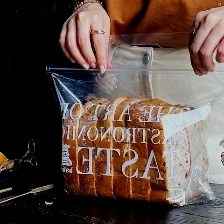snack: (39, 21, 223, 212)
